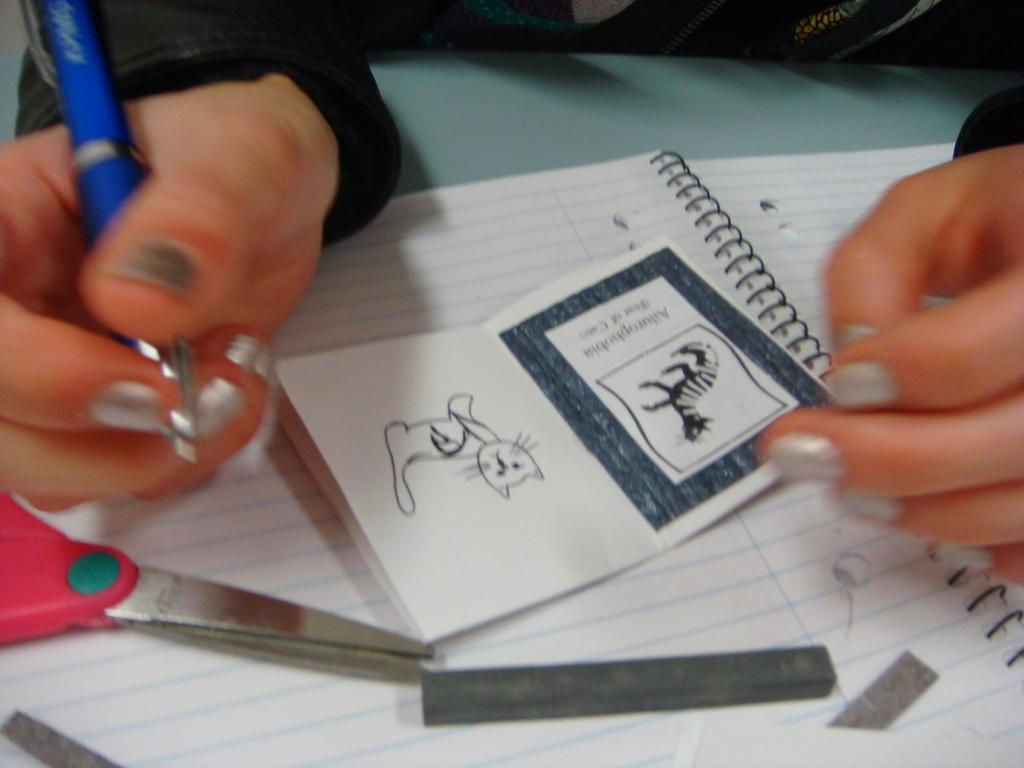pen: (22, 0, 199, 465)
